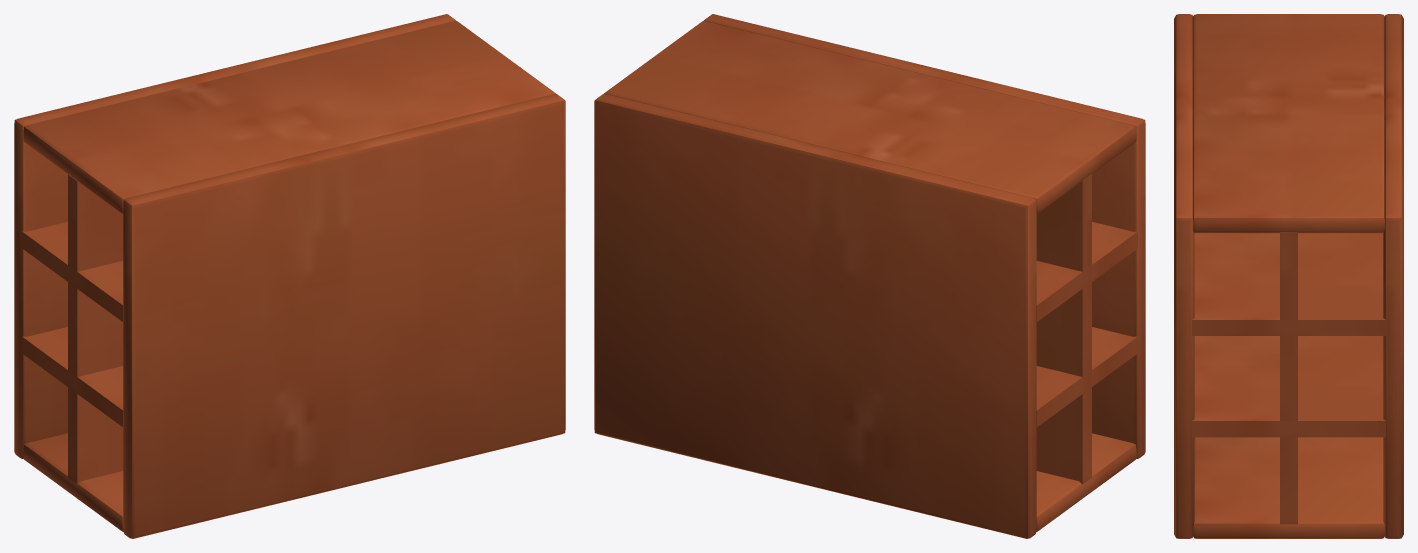
The model's file is ALV-BLC-001_lod1.glb.
3 views of the same model, side by side, from view 1: azimuth 30°, elevation 25°; view 2: azimuth 150°, elevation 25°; view 3: azimuth 270°, elevation 25° (orthographic). The views are drawn at different scales.
Parts seen in each view (by area): view 1: ALV-BLC-001_pf1, ALV-BLC-001_pt, ALV-BLC-001_pf2, ALV-BLC-001_sv1, ALV-BLC-001_sh1, ALV-BLC-001_sh2, ALV-BLC-001_pb; view 2: ALV-BLC-001_pf2, ALV-BLC-001_pt, ALV-BLC-001_pf1, ALV-BLC-001_sv1, ALV-BLC-001_sh2, ALV-BLC-001_sh1, ALV-BLC-001_pb; view 3: ALV-BLC-001_pt, ALV-BLC-001_sh2, ALV-BLC-001_sh1, ALV-BLC-001_pb, ALV-BLC-001_pf2, ALV-BLC-001_pf1, ALV-BLC-001_sv1.
Part boxes in pixels (x1,y1,x2,y2): ALV-BLC-001_pf1: [123, 93, 565, 538]; ALV-BLC-001_pt: [23, 21, 555, 213]; ALV-BLC-001_pf2: [14, 14, 455, 458]; ALV-BLC-001_sv1: [68, 174, 123, 484]; ALV-BLC-001_sh1: [22, 327, 123, 426]; ALV-BLC-001_sh2: [22, 222, 123, 321]; ALV-BLC-001_pb: [23, 433, 123, 531]; ALV-BLC-001_pf2: [594, 93, 1036, 538]; ALV-BLC-001_pt: [604, 21, 1136, 213]; ALV-BLC-001_pf1: [704, 14, 1145, 458]; ALV-BLC-001_sv1: [1036, 174, 1091, 484]; ALV-BLC-001_sh2: [1036, 222, 1137, 321]; ALV-BLC-001_sh1: [1036, 327, 1137, 426]; ALV-BLC-001_pb: [1036, 433, 1136, 531]; ALV-BLC-001_pt: [1193, 14, 1384, 233]; ALV-BLC-001_sh2: [1192, 233, 1385, 335]; ALV-BLC-001_sh1: [1192, 336, 1385, 437]; ALV-BLC-001_pb: [1193, 437, 1384, 538]; ALV-BLC-001_pf2: [1383, 14, 1403, 538]; ALV-BLC-001_pf1: [1174, 14, 1194, 538]; ALV-BLC-001_sv1: [1280, 232, 1297, 524].
Size of the model in its own units: 0.19 by 0.14 by 0.09.
Materials: 1 (1 with a texture image).
